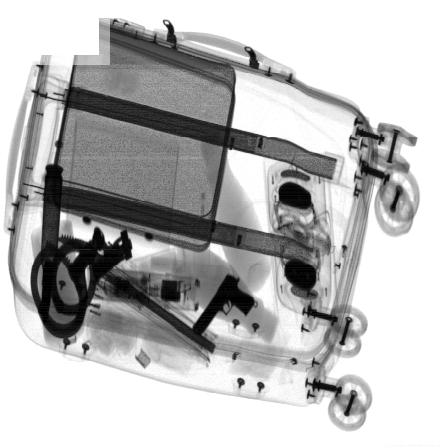Baton: (88, 265, 200, 312)
Bullet: (39, 164, 65, 328)
Gun: (192, 271, 256, 342)
HandCuffs: (28, 225, 133, 337)
